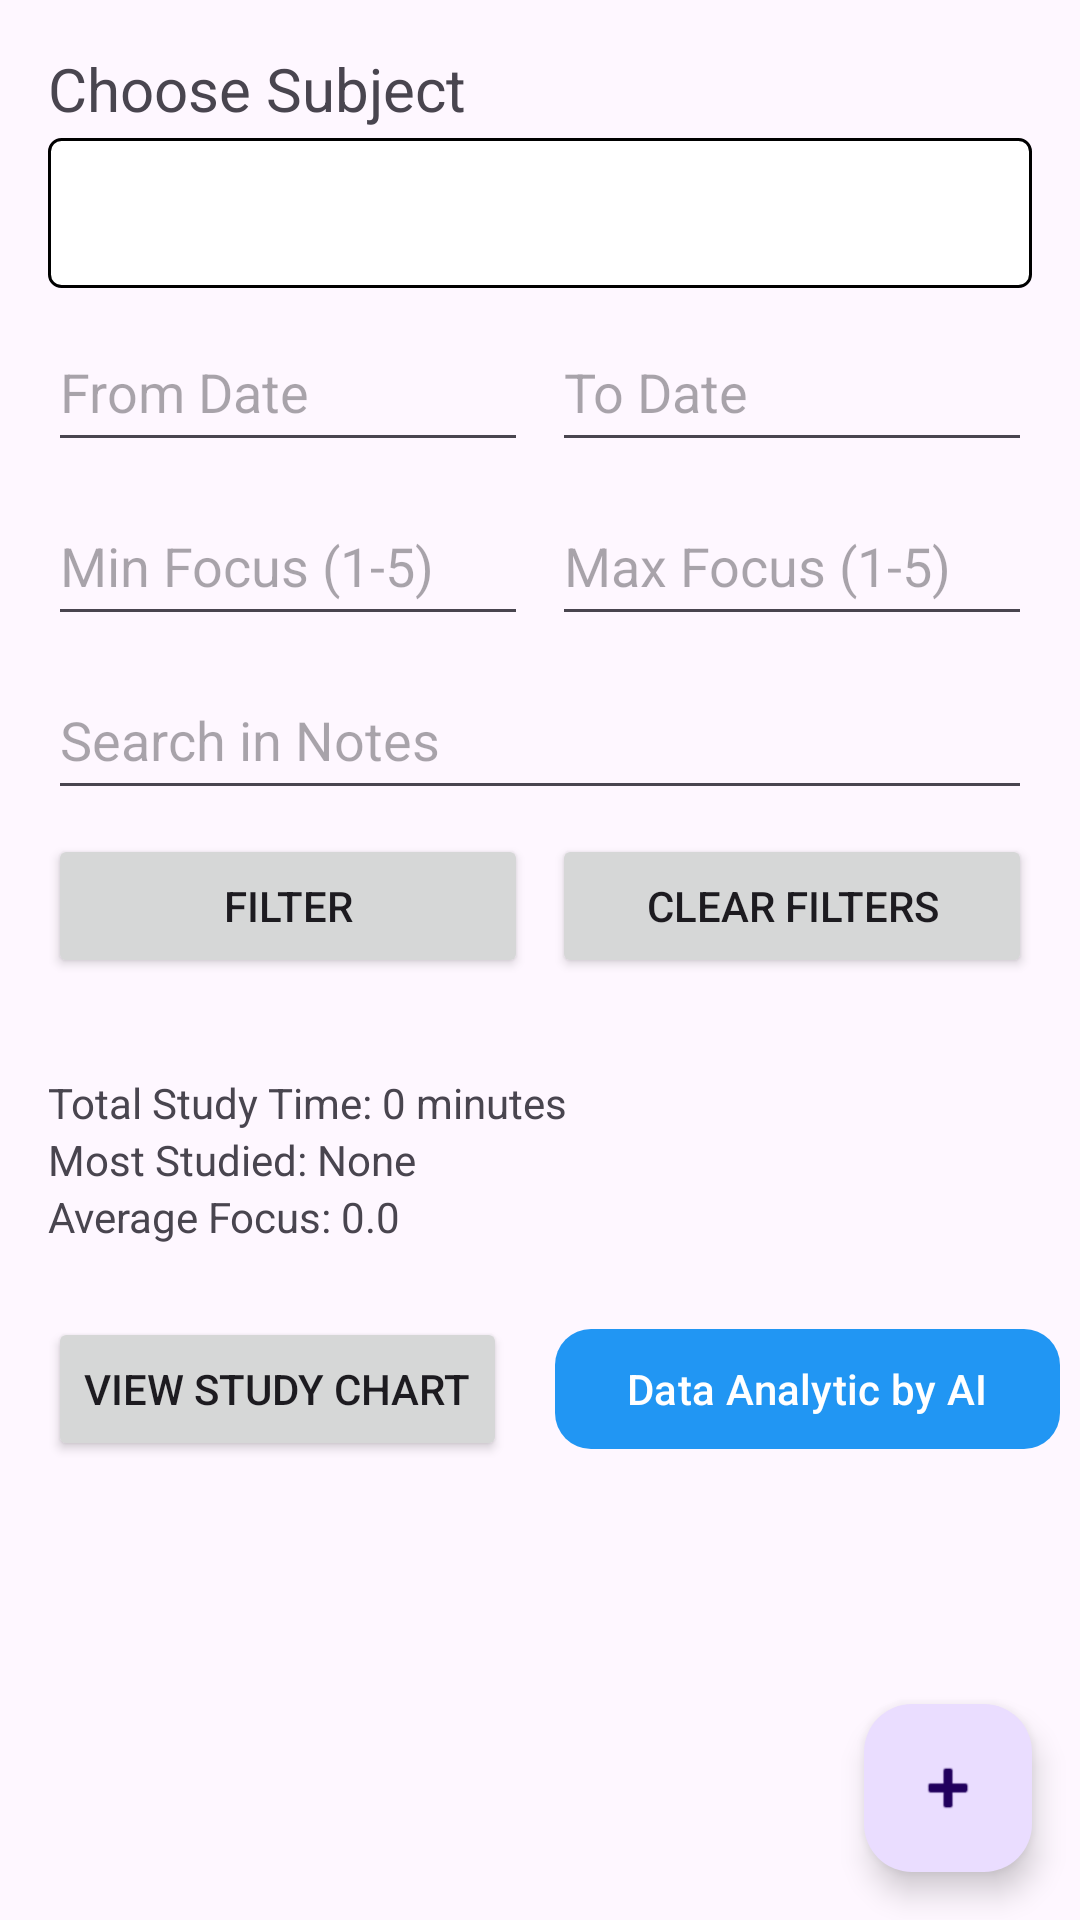

Icon click points for this 1080 x 1920 phone screenshot, format [x,y]:
Add new session: [948,1788]
